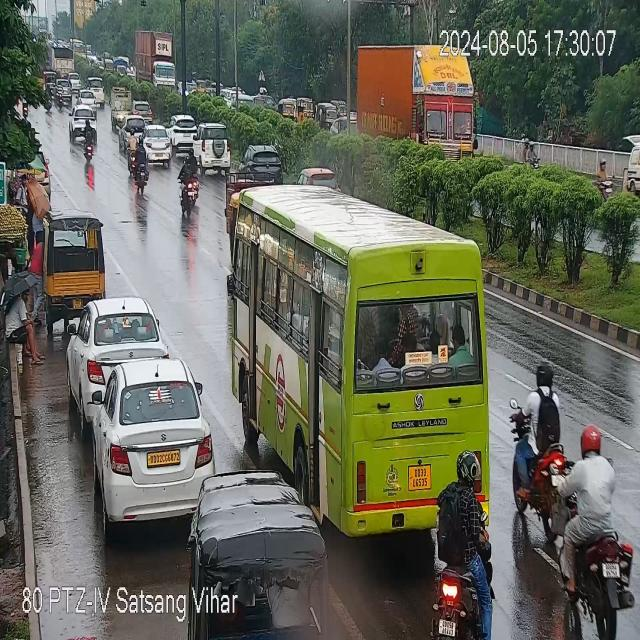2-wheelers: (552, 424, 636, 640), (432, 449, 493, 638), (510, 356, 563, 532), (178, 140, 200, 222), (124, 128, 149, 194), (596, 159, 614, 201), (81, 115, 95, 162), (520, 141, 541, 165)
bus: (225, 169, 494, 567)
car: (82, 352, 215, 527), (66, 296, 170, 422), (144, 126, 174, 162), (172, 115, 199, 148), (72, 105, 98, 125)
pedestrian: (2, 287, 47, 364)
truck: (354, 37, 479, 157), (133, 27, 180, 94), (194, 124, 232, 176), (241, 146, 285, 182)
